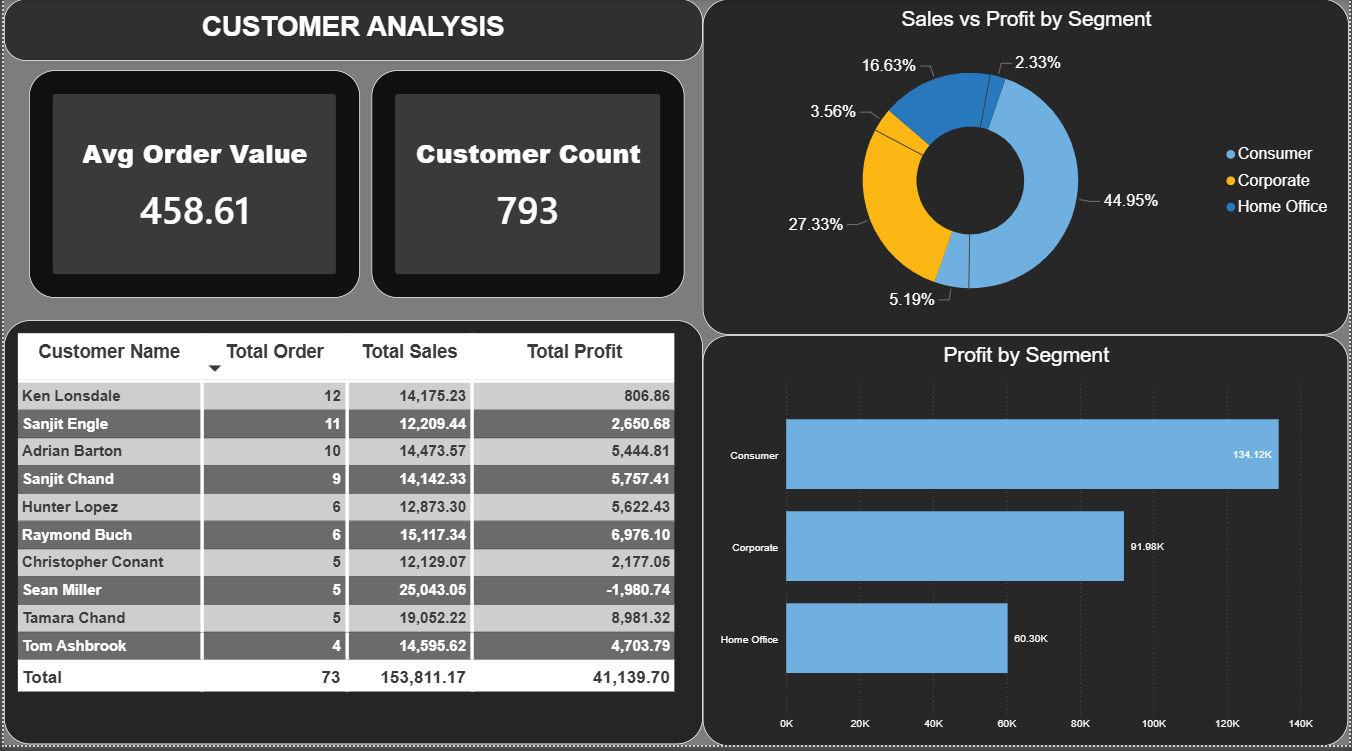

What the dashboard file says about the page in this screenshot:
{"tool":"powerbi","page":{"name":"CUSTOMER ANALYSIS","canvas":[1550,860],"ordinal":2},"visuals":[{"type":"textbox","box":[0,0,805.3,70.9],"z":0},{"type":"barChart","title":"Profit by Segment","fields":{"Y":["superstore_db superstore.Total Profit"],"Category":["superstore_db superstore.Segment"]},"box":[805.8,387.1,744.2,473.3],"z":1000},{"type":"tableEx","fields":{"Values":["superstore_db superstore.Customer_Name","superstore_db superstore.Total Order","superstore_db superstore.Total Sales","superstore_db superstore.Total Profit"]},"box":[0,370.9,805.3,489.1],"z":2000},{"type":"donutChart","title":"Sales vs Profit by Segment","fields":{"Category":["superstore_db superstore.Segment"],"Y":["superstore_db superstore.Total Sales","superstore_db superstore.Total Profit"]},"box":[805.3,0,744.7,387.1],"z":3000},{"type":"cardVisual","fields":{"Data":["superstore_db superstore.Avg Order Value"]},"box":[28.1,82.7,381.8,262.1],"z":4000},{"type":"cardVisual","fields":{"Data":["superstore_db superstore.Customer Count"]},"box":[424,82.7,360.7,262.1],"z":5000}]}

Visuals, with their boxes in screenshot pixels (x1, y1, x2, y2), scaled from the page's 1550x860 canvas onto the 1352x751 screenshot:
textbox: 0:0:702:62
"Profit by Segment" barChart: 703:338:1351:750
tableEx - superstore_db superstore.Customer_Name x superstore_db superstore.Total Order: 0:324:702:750
"Sales vs Profit by Segment" donutChart: 702:0:1351:338
cardVisual - superstore_db superstore.Avg Order Value: 25:72:358:301
cardVisual - superstore_db superstore.Customer Count: 370:72:684:301
